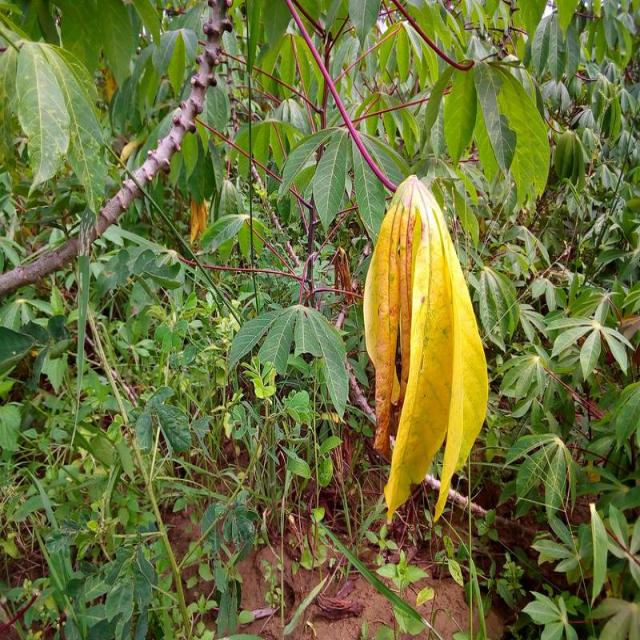cassava leaf: (362, 173, 488, 525)
